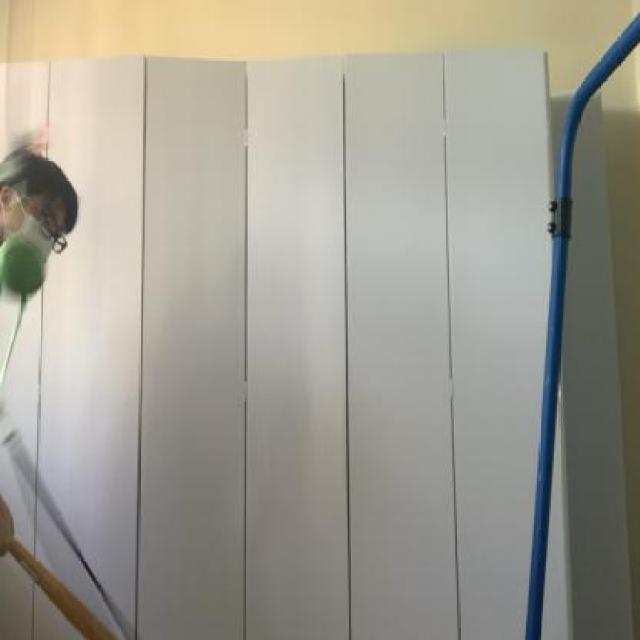baseball: (0, 229, 51, 303)
